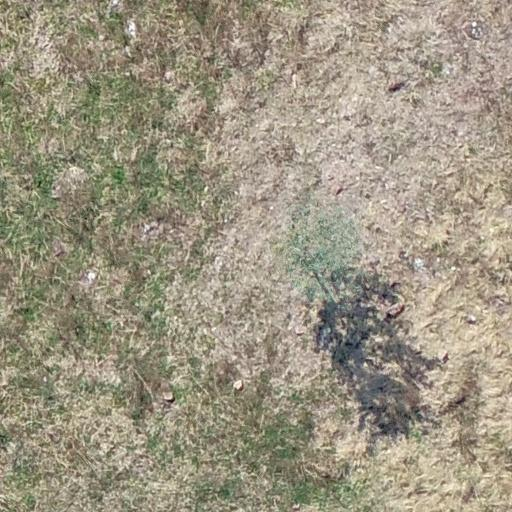stone: (387, 302, 403, 318), (329, 185, 344, 199), (438, 350, 450, 362), (162, 392, 176, 401), (232, 380, 244, 390), (390, 279, 396, 287)
